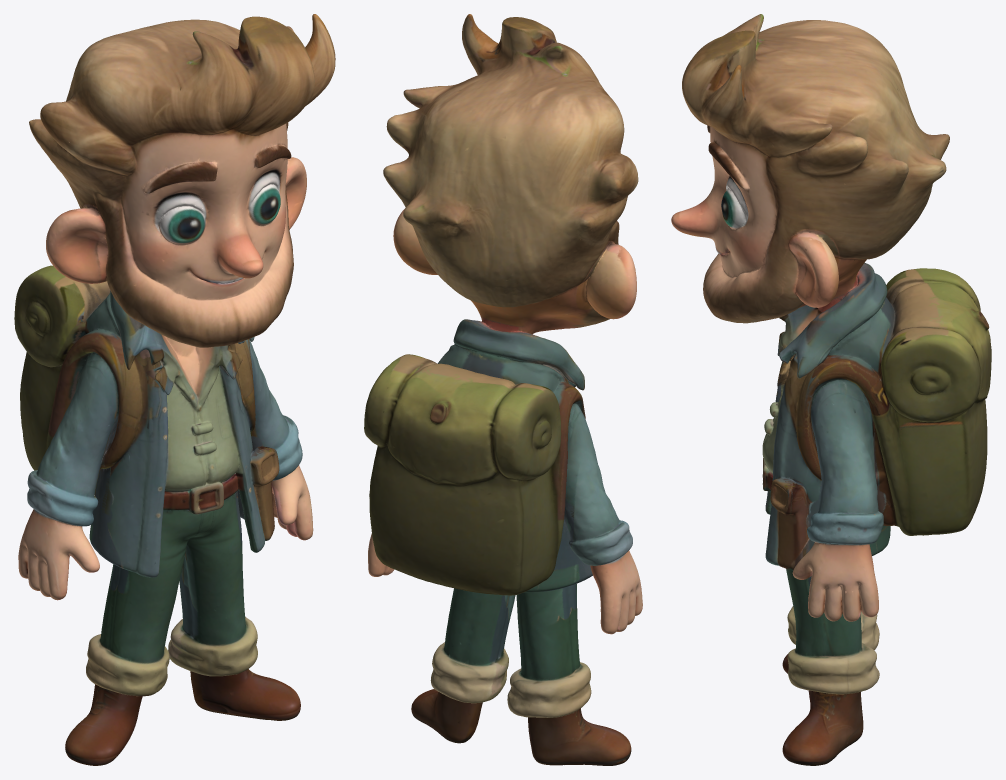
Rendered from modell.glb.
The picture shows the model from 3 angles, left to right: view 1: azimuth 30°, elevation 25°; view 2: azimuth 150°, elevation 25°; view 3: azimuth 270°, elevation 25°; orthographic projection. The views are drawn at different scales.
Bounding box in the file's own units: 0.7341 × 1.9 × 0.7918.
Materials: 1 (1 with a texture image).
